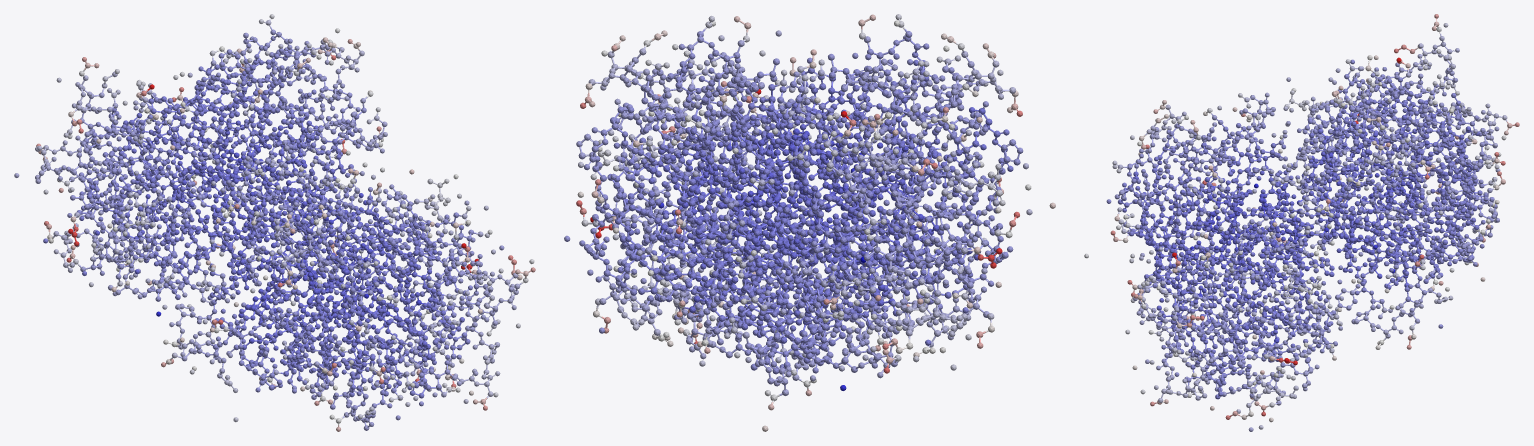
The model's file is 1gfl__ball_and_stick__b-factor.glb.
3 renders of one model, left to right at view 1: azimuth 30°, elevation 25°; view 2: azimuth 150°, elevation 25°; view 3: azimuth 270°, elevation 25°, orthographic. The views are drawn at different scales.
Parts seen in each view (by area): view 1: Renderer Node; view 2: Renderer Node; view 3: Renderer Node.
Boxes of the visible parts, x1,y1,x2,y2 form: Renderer Node: [14, 14, 535, 431]; Renderer Node: [564, 14, 1055, 431]; Renderer Node: [1084, 14, 1519, 431].
Size of the model in its own units: 61.93 by 54.35 by 67.59.
